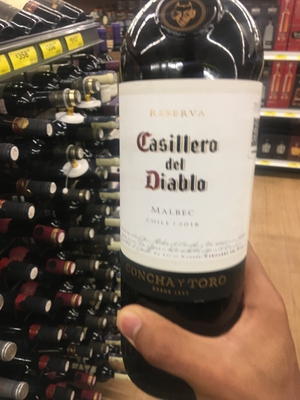casillero del diablo malbec: (113, 1, 261, 381)
